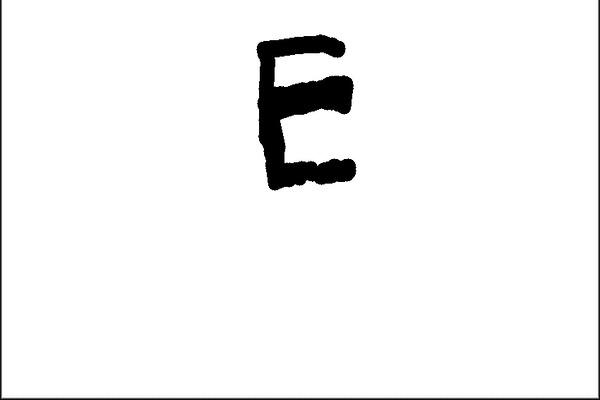E: (251, 29, 366, 192)
